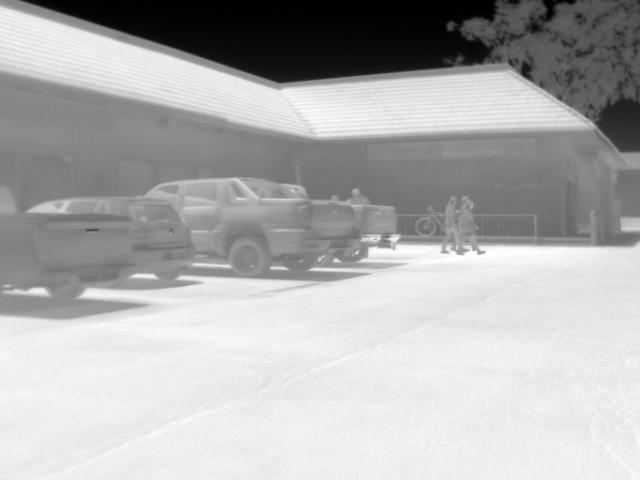car: (147, 176, 361, 277), (1, 184, 135, 301), (25, 195, 196, 281), (290, 183, 395, 264)
person: (456, 200, 488, 252), (438, 194, 463, 254), (347, 186, 370, 204), (330, 192, 340, 201)
